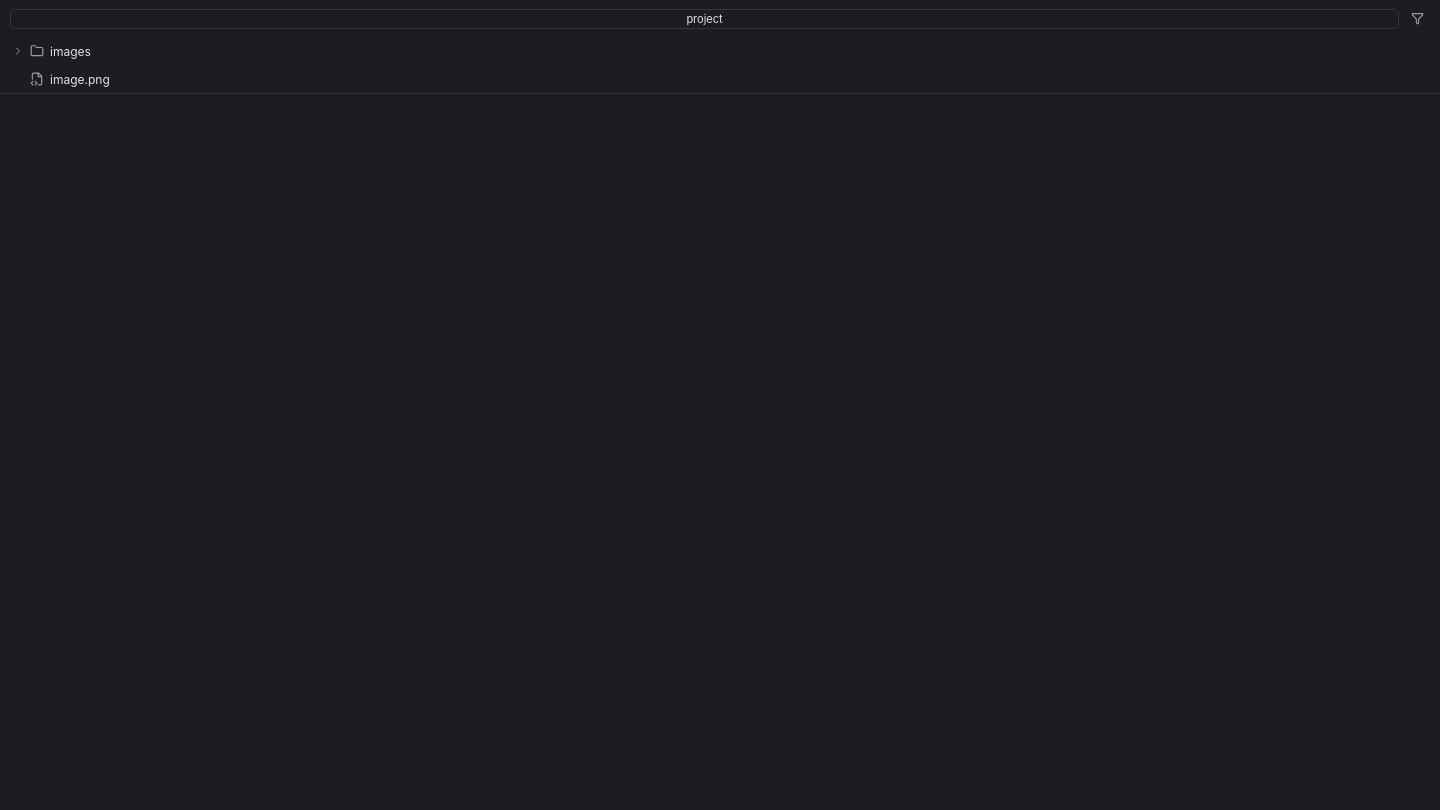
Test case: shares a path-only context through the existing composer without copying before confirmation
Right-click the button with test id "file-images/image.png".
right_click(80, 79)  # box [0,65,1422,93]
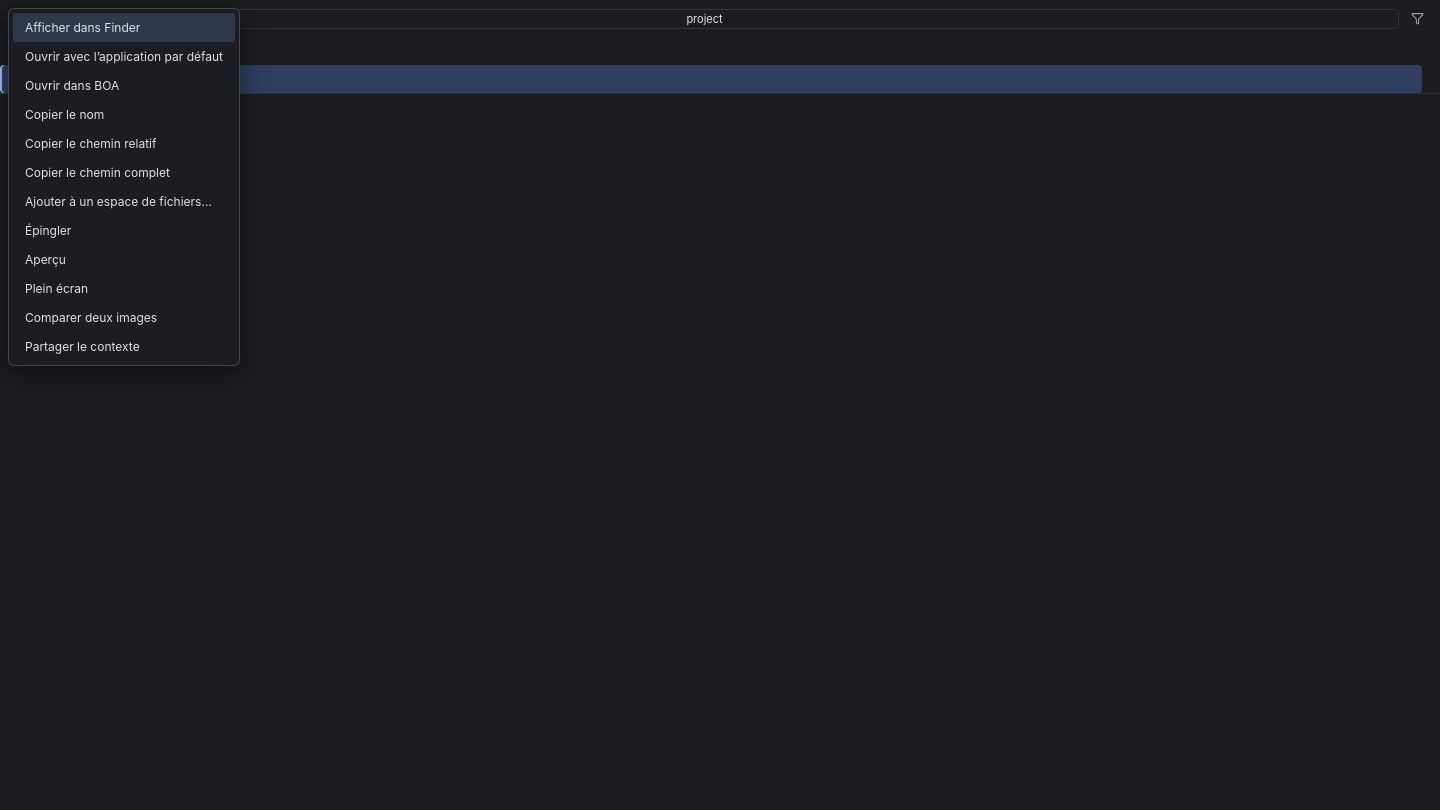
Click the menu item "Partager le contexte".
click(124, 346)  # box [13,332,235,361]
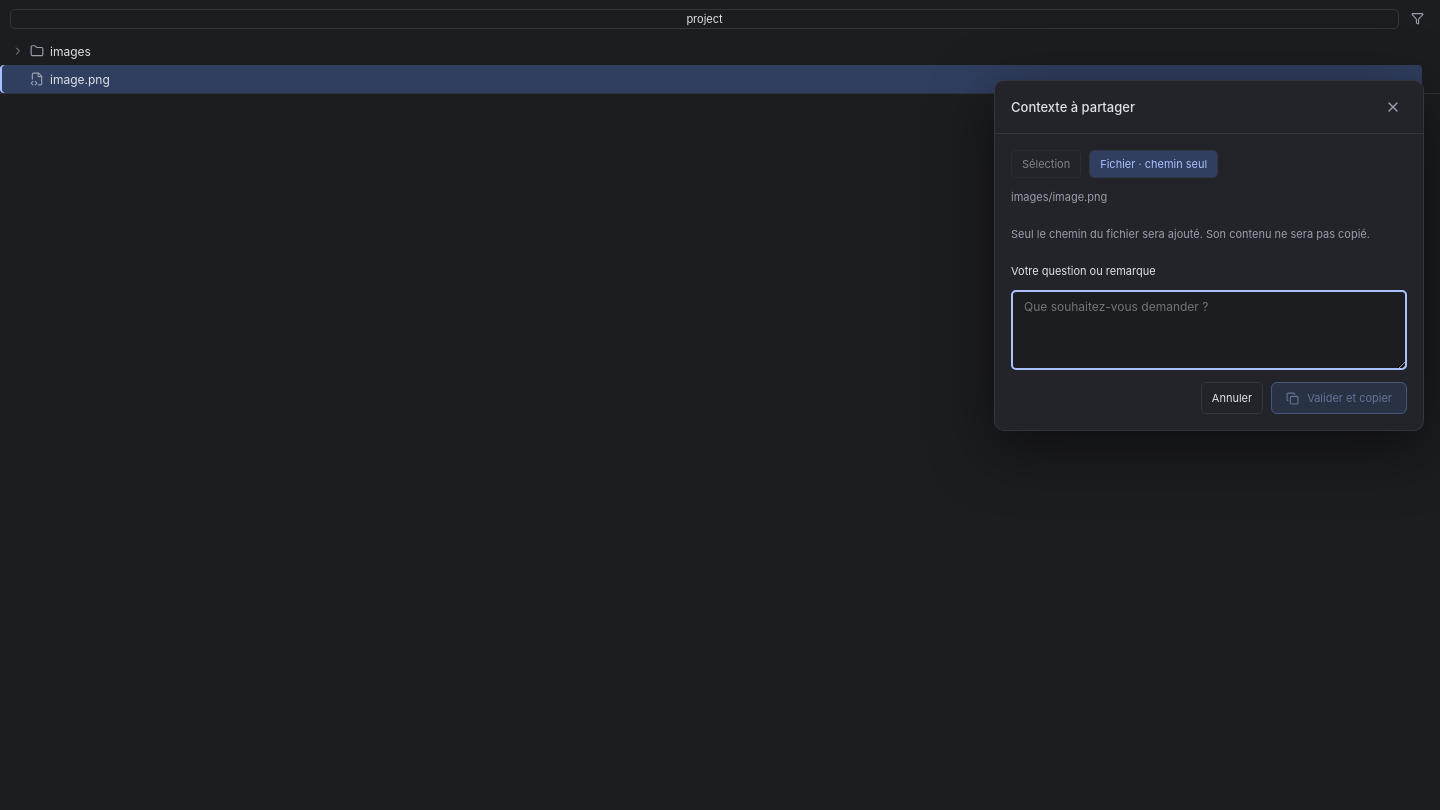
Now the dialog with test id "context-popover" is shown, box [994,80,1424,431]
Now the dialog with test id "context-popover" shows "images/image.png", box [1011,190,1107,204]
